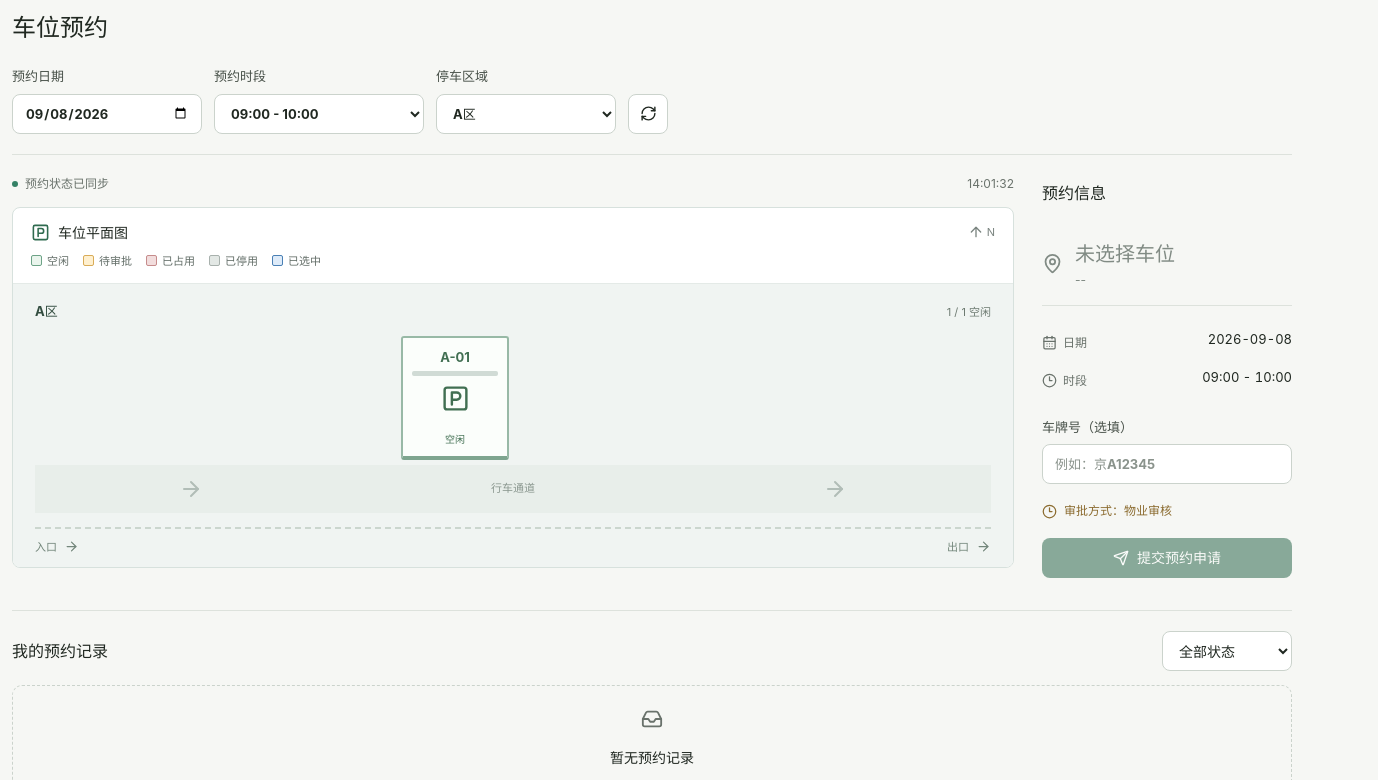
Test case: visual parking reservations › invalidates a selected position when refreshed occupancy changes
This screenshot has width=1378, height=780.
Click the button "A-01 空闲". click: point(455, 398)
box: [401,336,509,460]
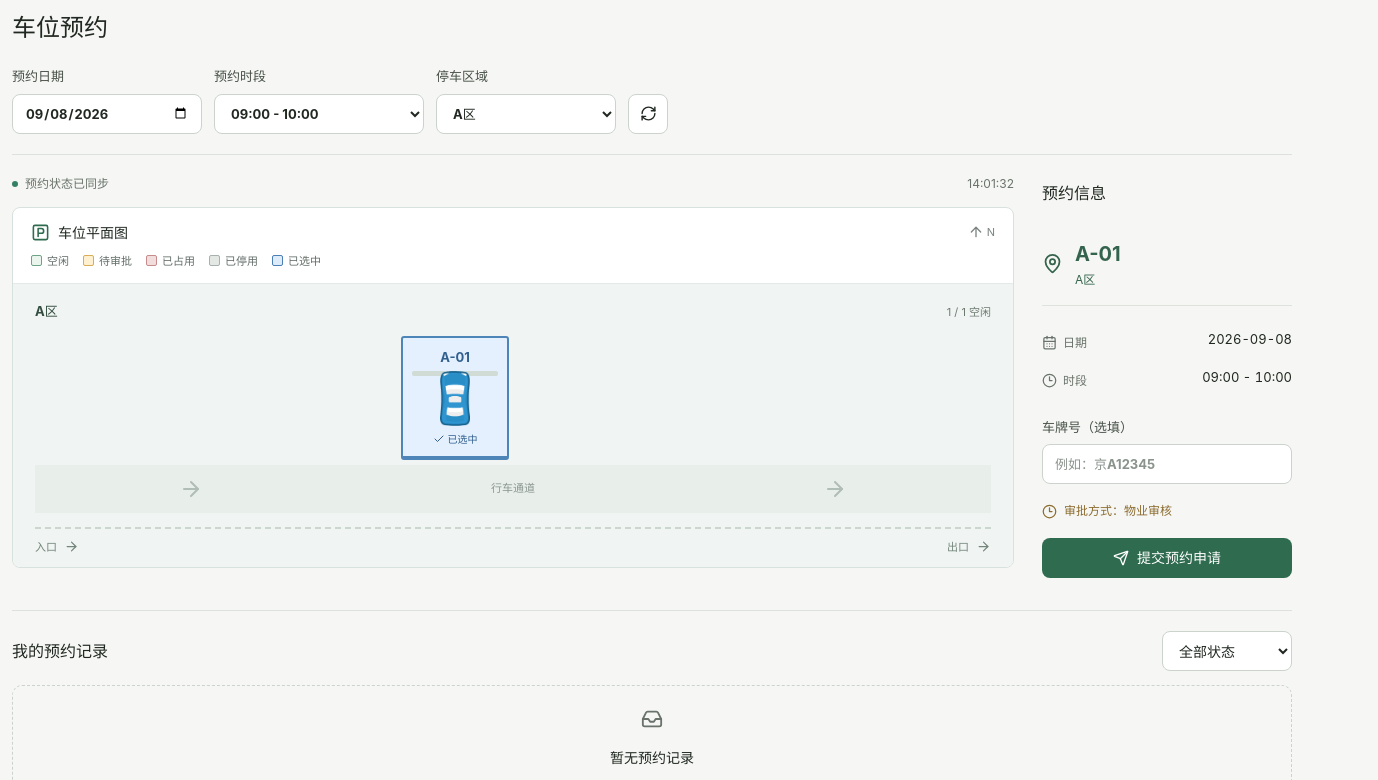
Now the button "提交预约申请" is enabled, box [1042,538,1292,578]
Click the button named "刷新车位状态". click: point(648, 114)
box: [628,94,668,134]
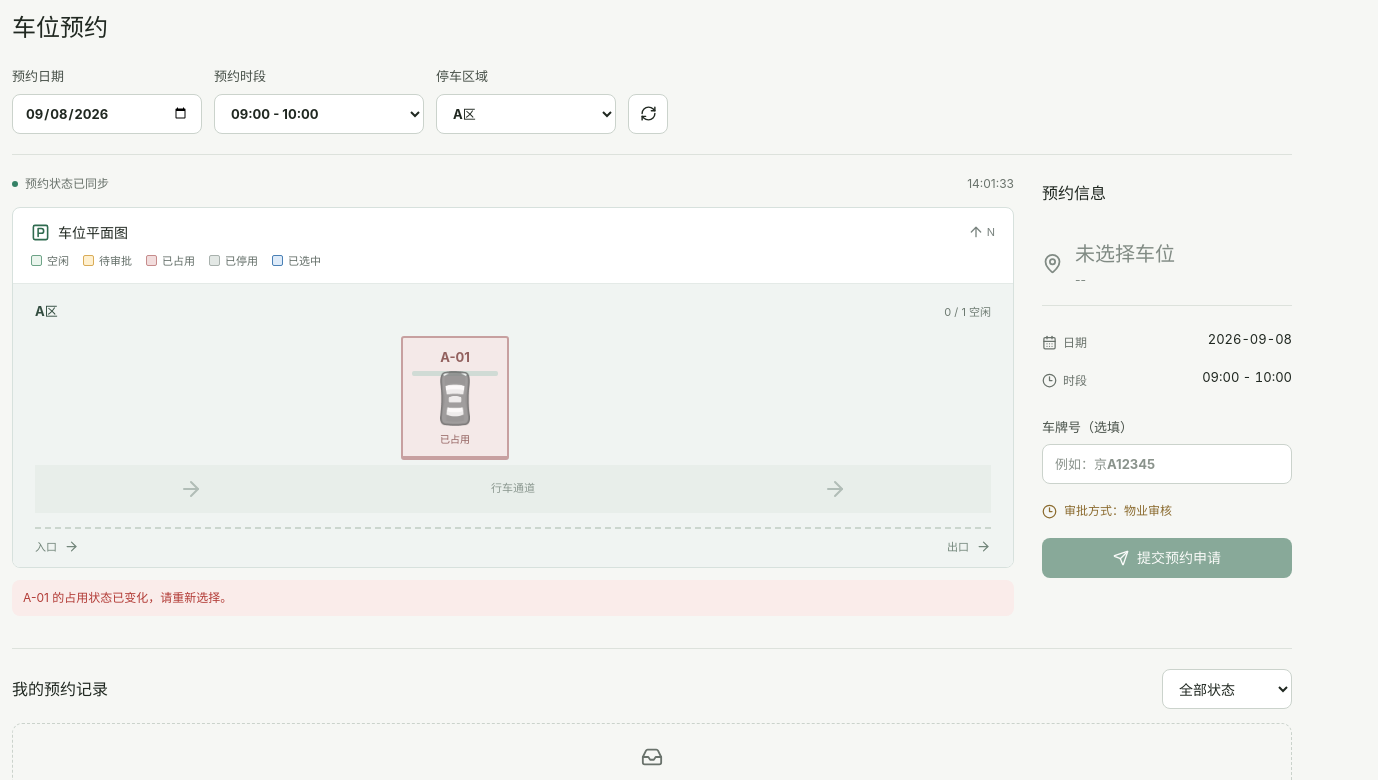
Now the button "A-01 已占用" is disabled, box [401,336,509,460]
Now the button "提交预约申请" is disabled, box [1042,538,1292,578]
Now the message shows "A-01", box [23,590,232,605]
